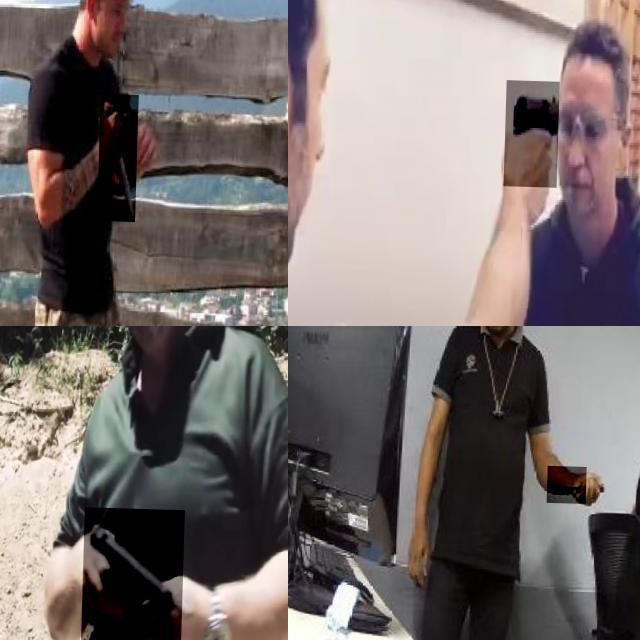-: (100, 92, 140, 220), (550, 464, 590, 502)
gun-knife-thesis - v11 Yolov5 augmented: (83, 505, 187, 640), (506, 78, 562, 185)
